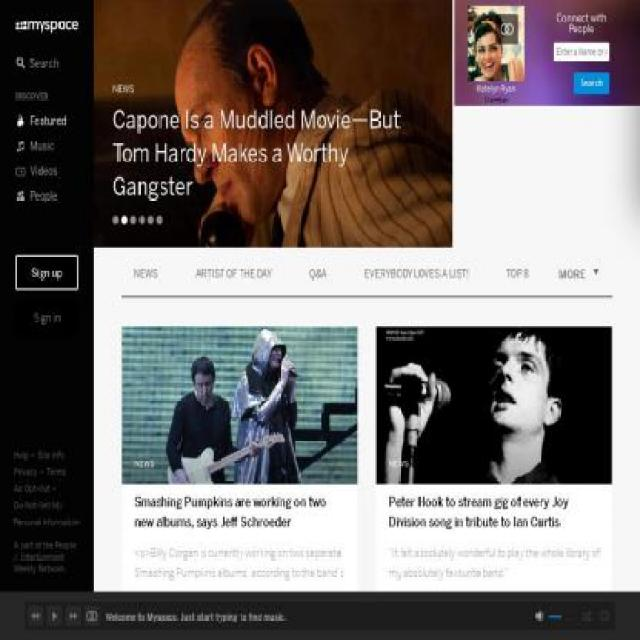button: (122, 326, 358, 485), (376, 326, 612, 485), (468, 5, 524, 106), (376, 617, 613, 638), (122, 617, 358, 638), (352, 260, 482, 288), (16, 36, 78, 92), (183, 260, 285, 288), (16, 255, 78, 290), (16, 300, 78, 335), (546, 260, 612, 289), (16, 109, 78, 133), (16, 134, 78, 158), (16, 159, 78, 183), (16, 184, 78, 208), (121, 260, 170, 288), (494, 260, 541, 288), (297, 260, 340, 288), (16, 16, 78, 30), (573, 72, 610, 94), (65, 606, 81, 626), (28, 606, 43, 626), (47, 606, 62, 626)
field: (553, 42, 610, 62)
